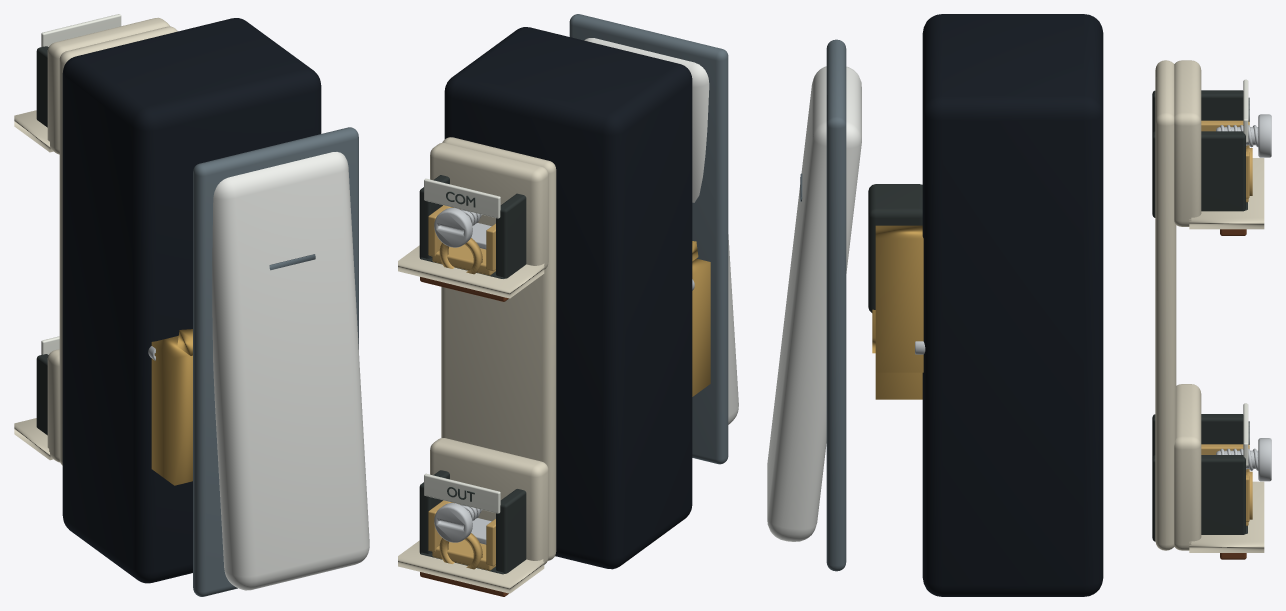
The model's file is switch_gang-module-right.glb.
3 views of the same model, side by side, from view 1: azimuth 30°, elevation 25°; view 2: azimuth 150°, elevation 25°; view 3: azimuth 270°, elevation 25° (orthographic). The views are drawn at different scales.
Parts seen in each view (by area): view 1: part:contacts, motion:rocker, part:actuator, part:terminals · Original 5a609f27, part:contacts.001 · Original df732090, Moulded terminal legend pad, detail:terminal-clamp:COM · Detail moulded engineering polym, detail:terminal-clamp:OUT · Detail moulded engineering polym; view 2: part:contacts, part:terminals · Original 5a609f27, part:actuator, motion:rocker, detail:terminal-clamp:COM · Detail moulded engineering polym, detail:terminal-clamp:OUT · Detail moulded engineering polym, part:contacts.001 · Original df732090, detail:terminal-clamp:COM · Detail machined brass, detail:terminal-clamp:OUT · Detail machined brass, Moulded terminal legend pad, detail:terminal-clamp:COM · Detail zinc plated fixing, detail:terminal-clamp:OUT · Detail zinc plated fixing (+3 smaller); view 3: part:contacts, part:terminals · Original 5a609f27, motion:rocker, part:actuator, part:contacts.001 · Original df732090, detail:terminal-clamp:COM · Detail moulded engineering polym, detail:terminal-clamp:OUT · Detail moulded engineering polym, Insulating cam follower, detail:terminal-clamp:COM · Detail zinc plated fixing, detail:terminal-clamp:OUT · Detail zinc plated fixing, detail:terminal-clamp:COM · Detail machined brass, detail:terminal-clamp:OUT · Detail machined brass.
Part boxes in pixels (x1,y1,x2,y2): part:contacts: [62, 18, 321, 583]; motion:rocker: [212, 152, 369, 590]; part:actuator: [193, 127, 358, 596]; part:terminals · Original 5a609f27: [14, 17, 177, 465]; part:contacts.001 · Original df732090: [151, 329, 192, 485]; Moulded terminal legend pad: [41, 14, 121, 46]; detail:terminal-clamp:COM · Detail moulded engineering polym: [36, 46, 48, 127]; detail:terminal-clamp:OUT · Detail moulded engineering polym: [36, 354, 48, 435]; part:contacts: [444, 27, 692, 569]; part:terminals · Original 5a609f27: [398, 137, 556, 593]; part:actuator: [569, 14, 728, 464]; motion:rocker: [584, 38, 738, 424]; detail:terminal-clamp:COM · Detail moulded engineering polym: [419, 175, 526, 278]; detail:terminal-clamp:OUT · Detail moulded engineering polym: [419, 470, 526, 574]; part:contacts.001 · Original df732090: [692, 241, 710, 396]; detail:terminal-clamp:COM · Detail machined brass: [428, 205, 495, 275]; detail:terminal-clamp:OUT · Detail machined brass: [428, 500, 495, 570]; Moulded terminal legend pad: [424, 178, 500, 218]; detail:terminal-clamp:COM · Detail zinc plated fixing: [434, 208, 491, 249]; detail:terminal-clamp:OUT · Detail zinc plated fixing: [434, 503, 491, 544]; part:contacts: [922, 14, 1103, 596]; part:terminals · Original 5a609f27: [1155, 60, 1264, 552]; motion:rocker: [767, 66, 861, 541]; part:actuator: [826, 39, 846, 571]; part:contacts.001 · Original df732090: [872, 225, 923, 399]; detail:terminal-clamp:COM · Detail moulded engineering polym: [1152, 90, 1247, 217]; detail:terminal-clamp:OUT · Detail moulded engineering polym: [1152, 414, 1247, 541]; Insulating cam follower: [868, 184, 922, 312]; detail:terminal-clamp:COM · Detail zinc plated fixing: [1216, 114, 1271, 157]; detail:terminal-clamp:OUT · Detail zinc plated fixing: [1216, 438, 1271, 481]; detail:terminal-clamp:COM · Detail machined brass: [1201, 120, 1252, 202]; detail:terminal-clamp:OUT · Detail machined brass: [1201, 444, 1252, 526].
Size of the model in its own units: 0.2708 by 0.661 by 0.605.
